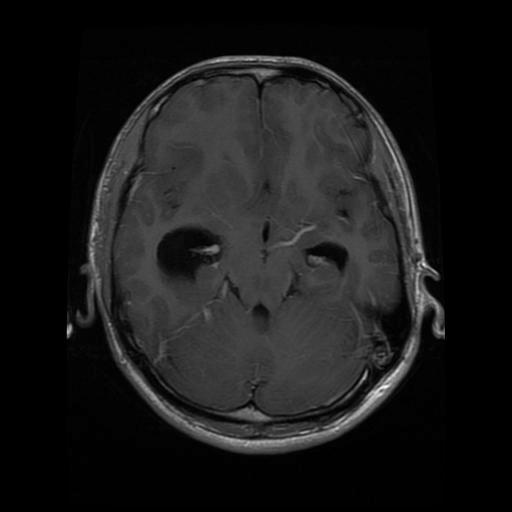Tumour-Glioma: (338, 146, 411, 244)
